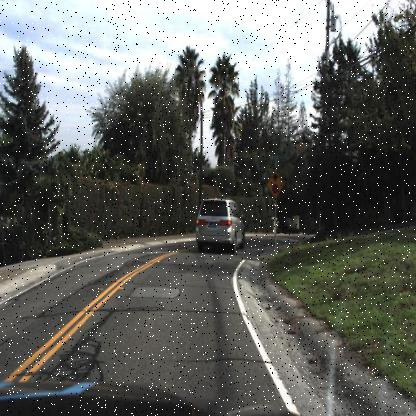car: (194, 195, 245, 259)
